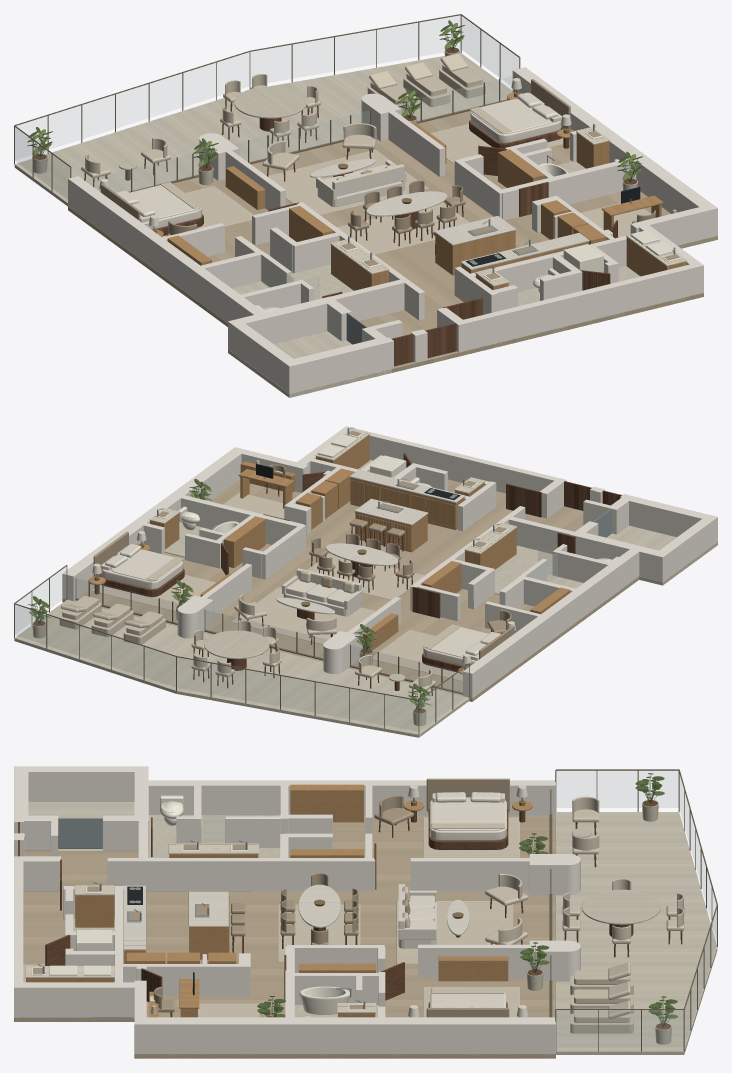
3 renders of one model, top to bottom at view 1: azimuth 30°, elevation 25°; view 2: azimuth 150°, elevation 25°; view 3: azimuth 270°, elevation 25°, orthographic. The views are drawn at different scales.
Size of the model in its own units: 14.68 by 1.31 by 16.92.
18 materials, 9 textured.
